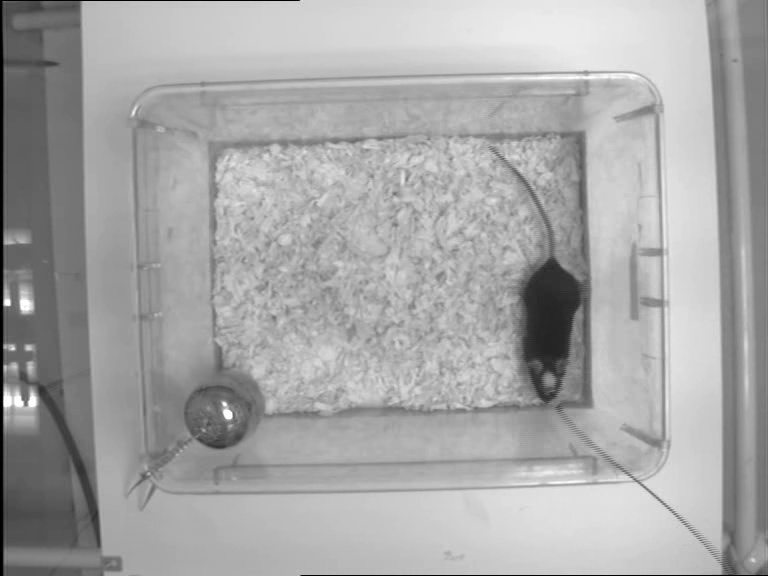mice: (484, 143, 581, 404)
